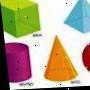cube: (0, 0, 42, 37)
